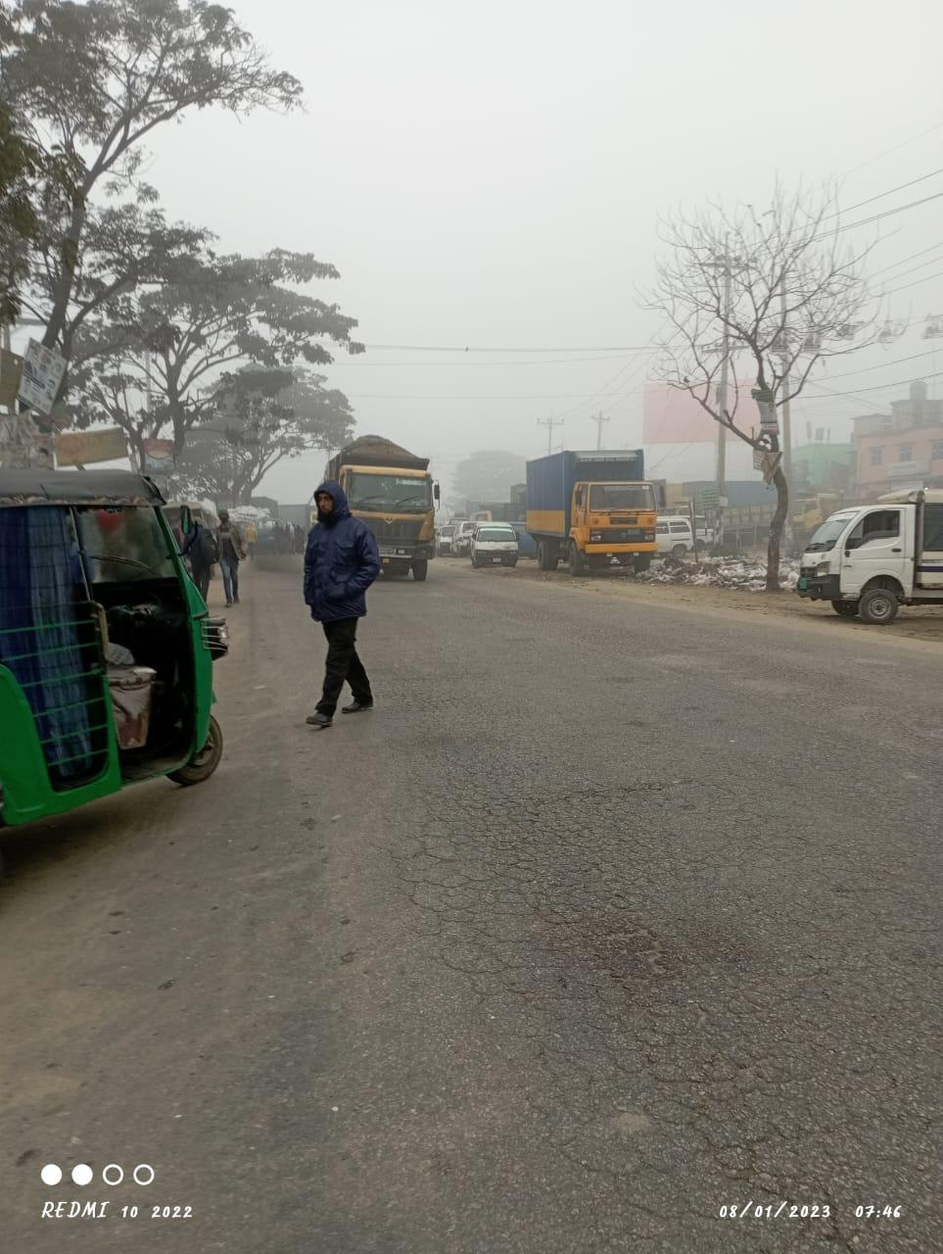Car: (797, 485, 942, 616), (468, 513, 522, 569)
Truck: (325, 426, 451, 591), (519, 442, 663, 585)
